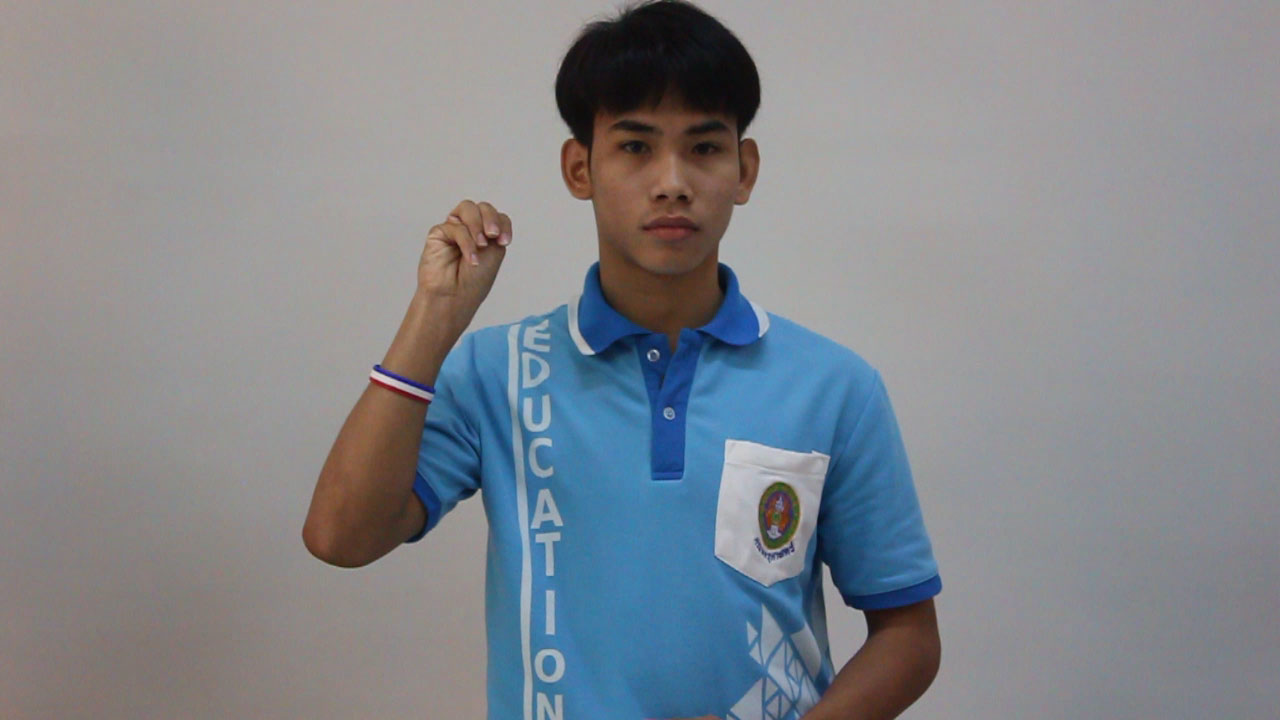mor: (414, 175, 516, 327)
